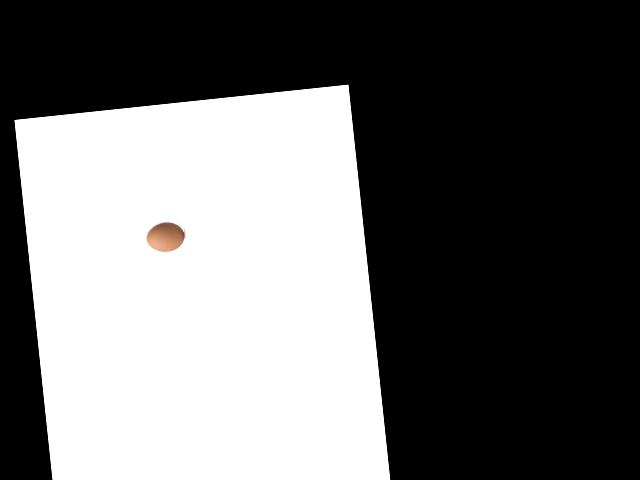egg: (145, 220, 186, 253)
